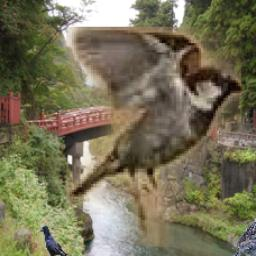Crow: (40, 225, 68, 256)
Sparrow: (66, 28, 241, 248), (223, 212, 256, 256)
